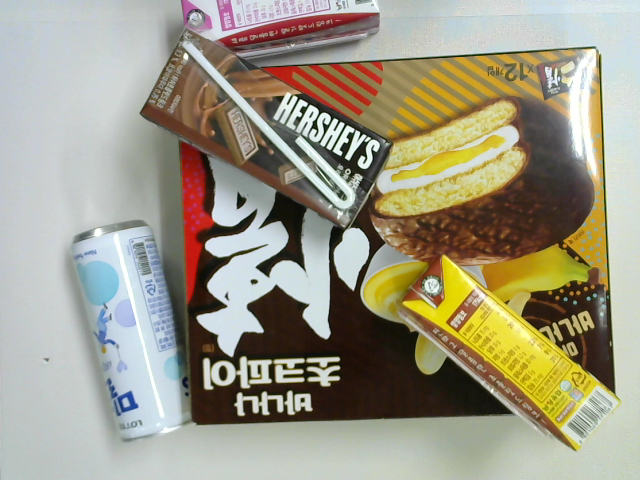Choco_E_Mong: (398, 256, 618, 451)
Choco_Pie_Banana: (182, 46, 617, 426)
Hush_Choco_Drink: (140, 30, 395, 226)
Milkies_250ml: (70, 219, 194, 443)
Strawberry_E_Mong: (180, 1, 381, 61)
